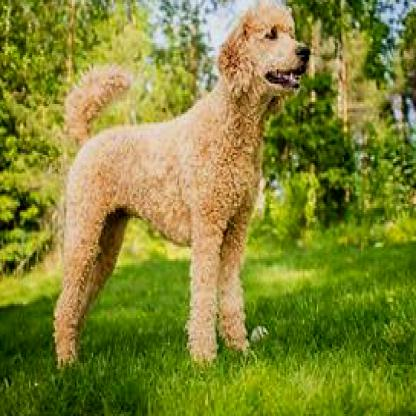dog: (49, 0, 312, 369)
